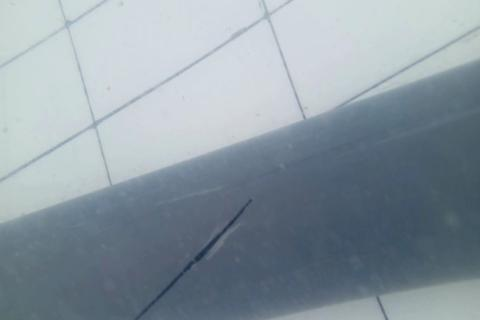keretakan: (133, 195, 253, 320)
